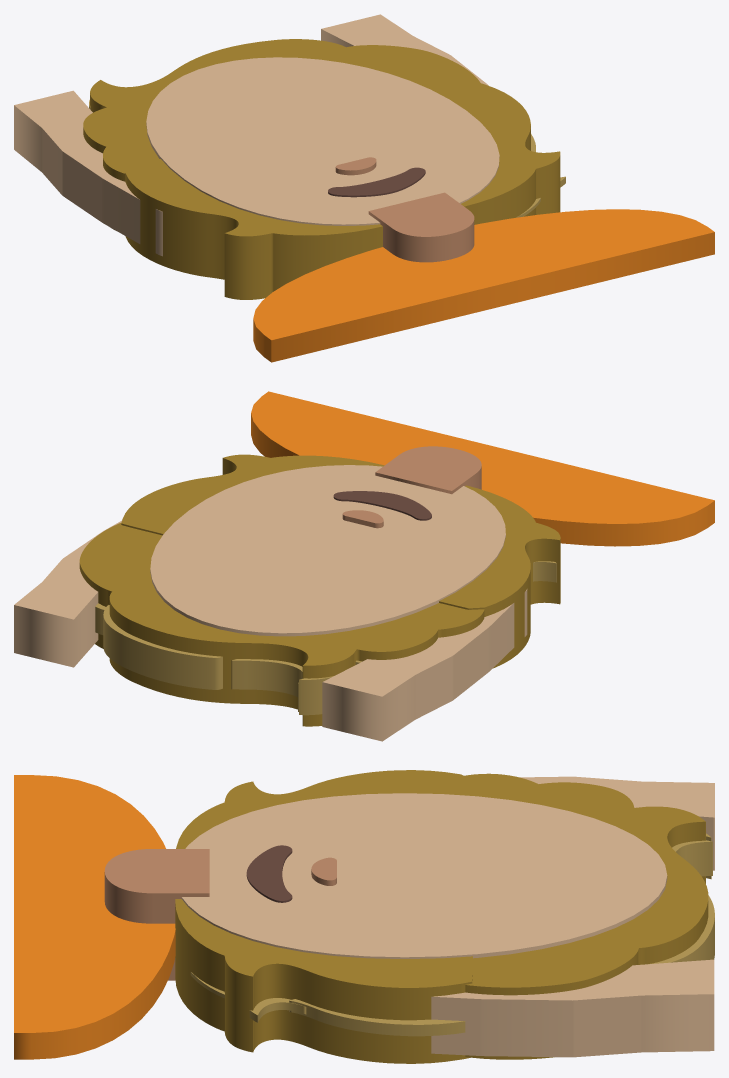
File: emoji_u1f486_1f3fc.glb
3 renders of one model, top to bottom at view 1: azimuth 30°, elevation 25°; view 2: azimuth 150°, elevation 25°; view 3: azimuth 270°, elevation 25°, orthographic. The views are drawn at different scales.
Visible parts, largest first — view 1: emoji_u1f486_1f3fc; view 2: emoji_u1f486_1f3fc; view 3: emoji_u1f486_1f3fc.
Boxes of the visible parts, box(x1,y1,x2,y2) form: emoji_u1f486_1f3fc: box(14, 14, 714, 362); emoji_u1f486_1f3fc: box(14, 391, 714, 741); emoji_u1f486_1f3fc: box(14, 770, 714, 1063).
Size of the model in its own units: 0.0292 by 0.0048 by 0.0335.
